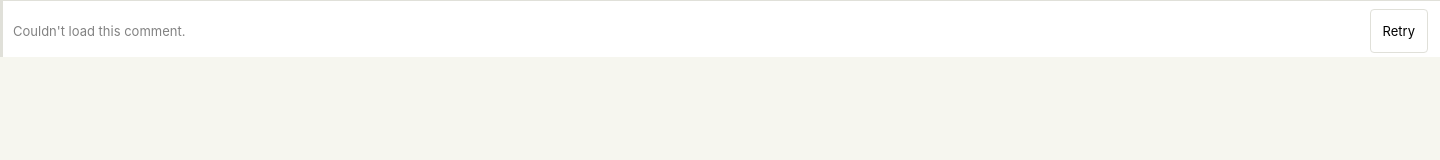
Test: <Comment> load-failure state › recovers via the Retry button once the API serves the comment again
The width and height of the screenshot is (1440, 160).
Click the button "Retry" at (1399,31), box [1370,9,1428,53]
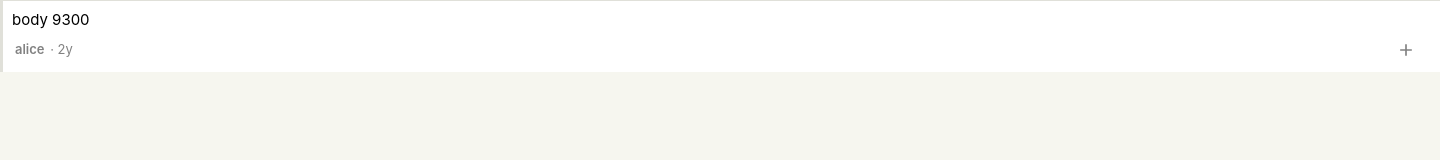
Now the text "body 9300" is shown, box [12,10,90,29]
Now the button "Retry" is gone
